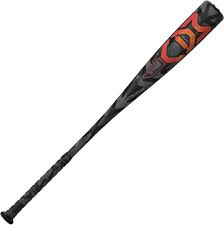baseball bat: (1, 1, 224, 224)
